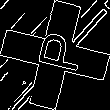P_W: (26, 31, 84, 79)
